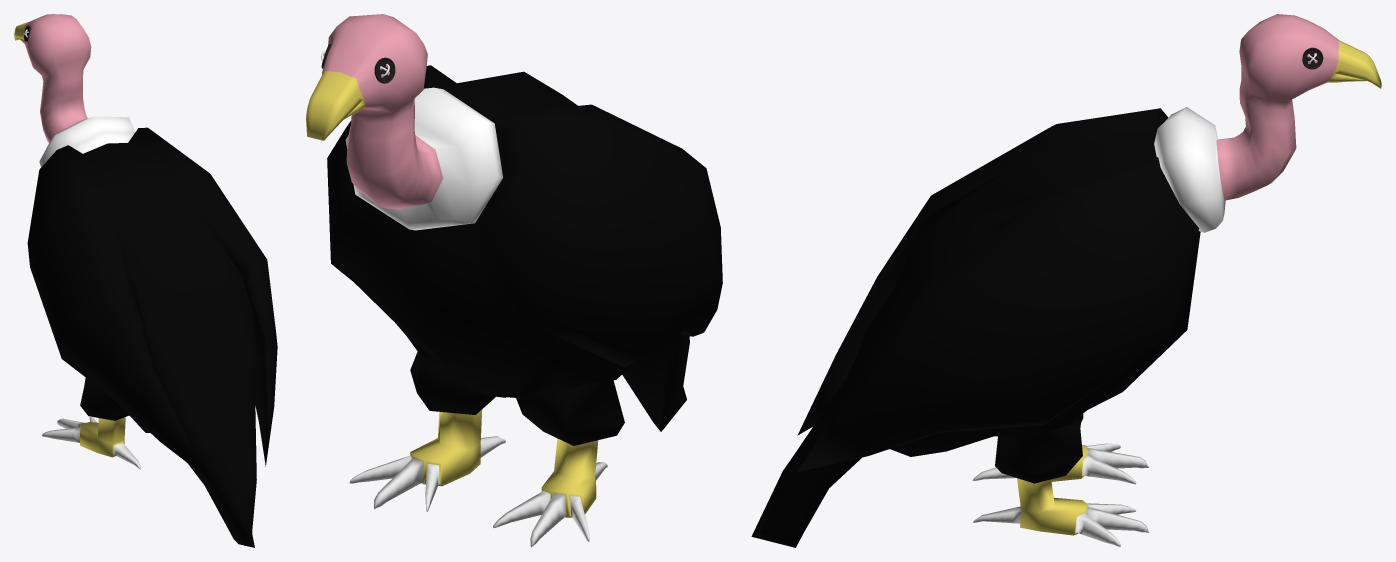
Rendered from Vulture Plush.fbx.
3 renders of one model, left to right at view 1: azimuth 30°, elevation 25°; view 2: azimuth 150°, elevation 25°; view 3: azimuth 270°, elevation 25°, orthographic. The views are drawn at different scales.
Parts seen in each view (by area): view 1: Cube; view 2: Cube; view 3: Cube.
Boxes of the visible parts, bbox=[...] form: Cube: bbox=[14, 14, 277, 547]; Cube: bbox=[306, 14, 722, 547]; Cube: bbox=[751, 14, 1381, 547].
Size of the model in its own units: 183 by 329 by 355.
